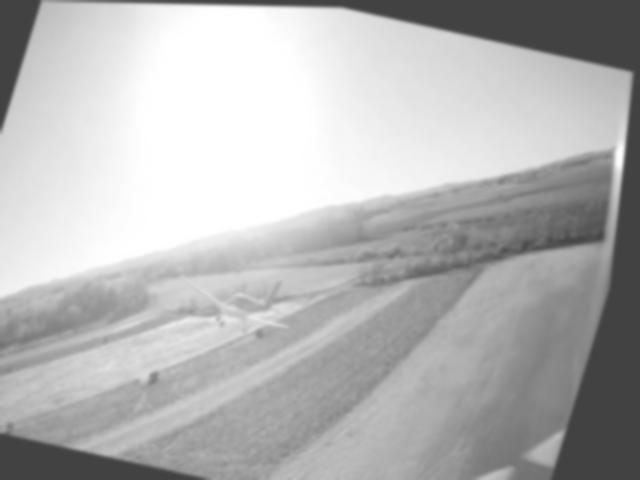hedef: (154, 236, 322, 361)
